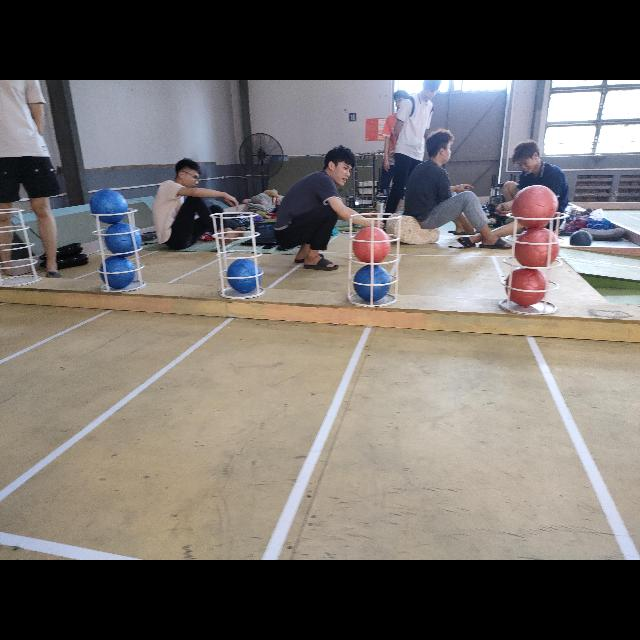B: (352, 264, 392, 302), (88, 188, 128, 225), (98, 257, 136, 291), (102, 226, 144, 256), (228, 258, 262, 292)
R: (511, 184, 559, 228), (514, 232, 558, 268), (352, 226, 392, 264), (504, 270, 546, 306)
